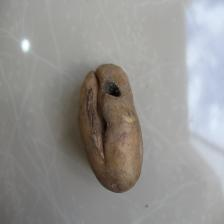Damaged potato: (77, 62, 144, 195)
